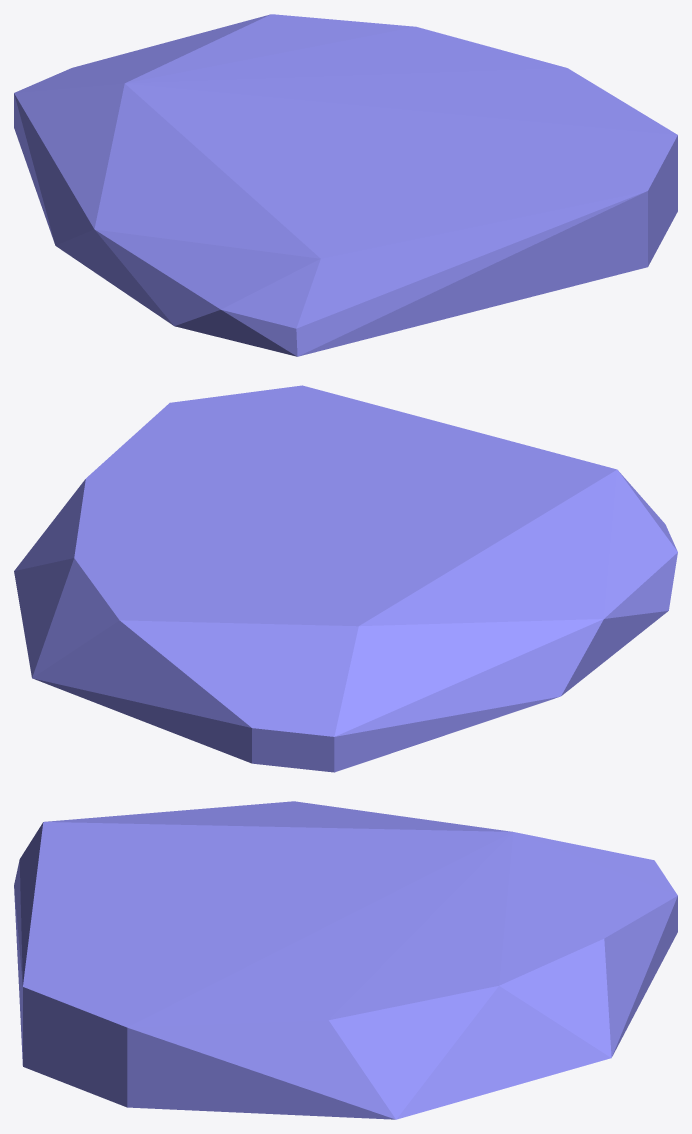
Rendered from Plate_03_Collider_01.FBX.
3 views of the same model, one above another, from view 1: azimuth 30°, elevation 25°; view 2: azimuth 150°, elevation 25°; view 3: azimuth 270°, elevation 25° (orthographic). The views are drawn at different scales.
Visible parts, largest first — view 1: COLLIDER1; view 2: COLLIDER1; view 3: COLLIDER1.
Part boxes in pixels (box(x1,y1,x2,y2)): COLLIDER1: box(14, 14, 677, 356); COLLIDER1: box(14, 385, 677, 772); COLLIDER1: box(14, 801, 677, 1119).
Size of the model in its own units: 173 by 28.82 by 180.
